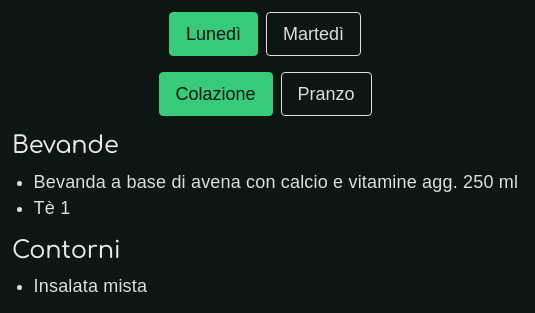
Test: Home › lists the selected day and meal, and omits a null amount
Expected: the heading "Bevande" is shown, [12,132,118,159]
Expected: the list item "Bevanda a base di avena con calcio e vitamine agg. 250 ml" is shown, [34,168,518,195]
Click the button "Pranzo": (326, 94) [281,72,372,116]
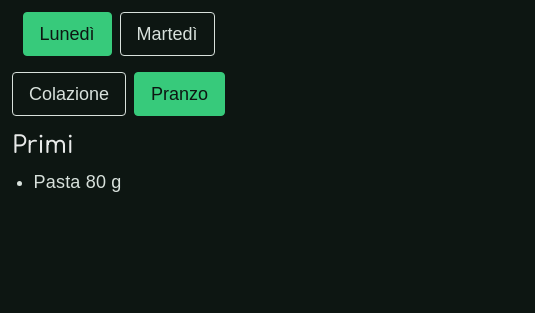
Expected: the list item "Pasta 80 g" is shown, [34,172,122,192]
Expected: the list item "Insalata mista" is gone
Click the button "Martedì": (167, 34) [120,12,215,56]
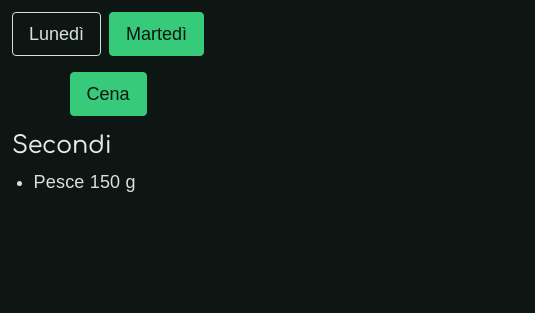
Expected: the button "Pranzo" is gone
Expected: the list item "Pesce 150 g" is shown, [34,172,136,192]
Expected: the list item "Pasta 80 g" is gone
